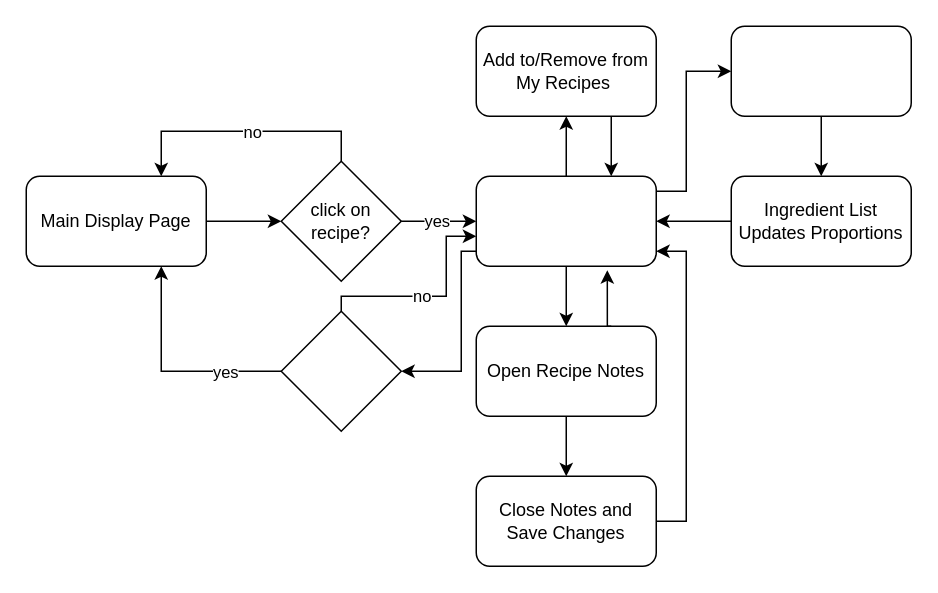
The diagram is 938 pixels wide and 593 high, and some of its shapes have lost their labels. Each missing label, with the centre of its shape:
"click home?" goes at (340,370).
"Modify Serving Size" goes at (820,70).
"Recipe is Displayed" goes at (565,220).
